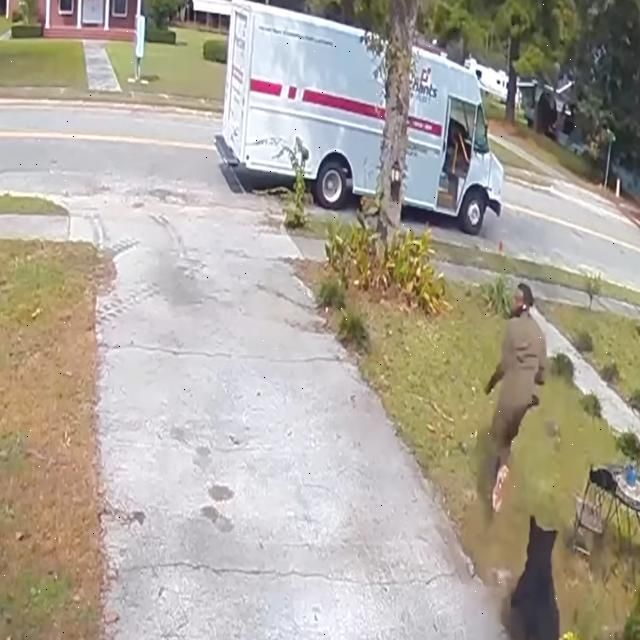standing: (483, 282, 547, 512)
